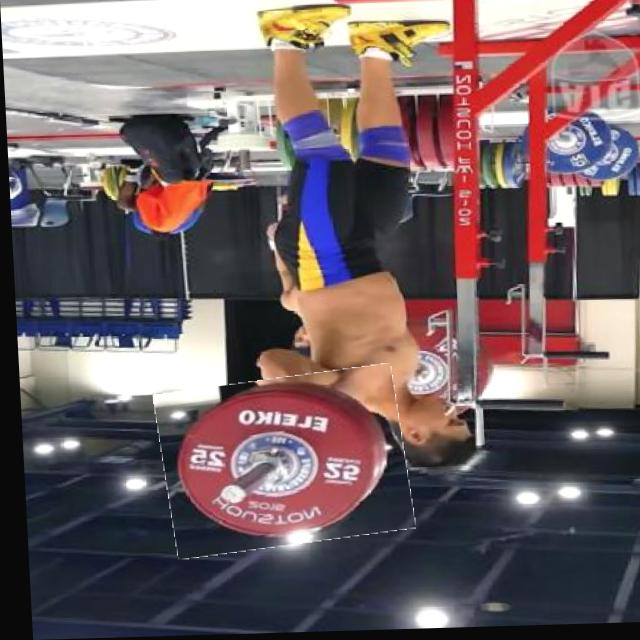barbell: (152, 372, 408, 556)
